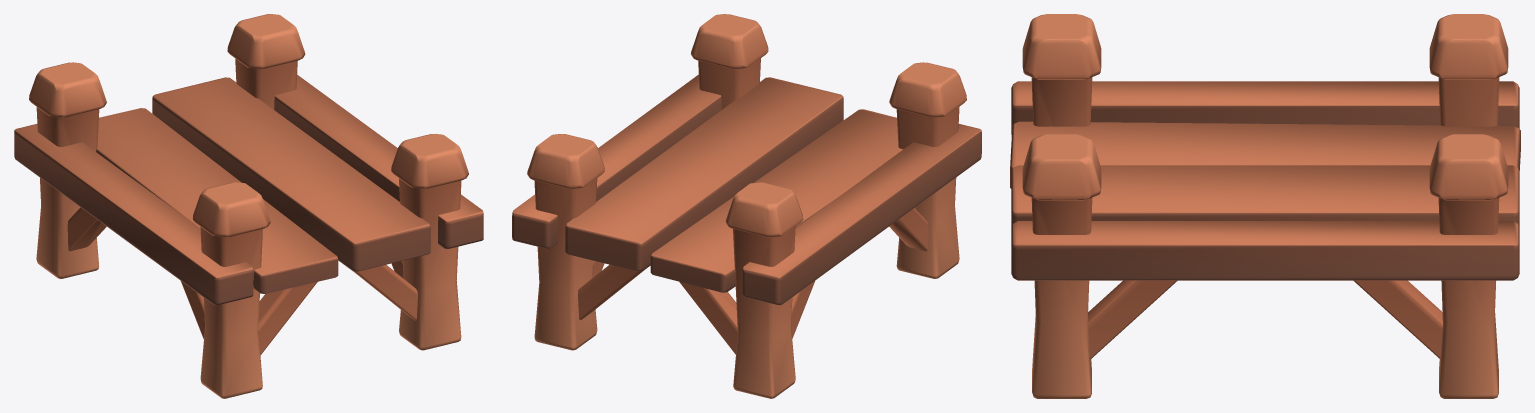
Rendered from structure-platform-dock-small.glb.
3 renders of one model, left to right at view 1: azimuth 30°, elevation 25°; view 2: azimuth 150°, elevation 25°; view 3: azimuth 270°, elevation 25°, orthographic. The views are drawn at different scales.
Visible parts, largest first — view 1: structure-platform-dock-small; view 2: structure-platform-dock-small; view 3: structure-platform-dock-small.
Boxes of the visible parts, x1,y1,x2,y2 form: structure-platform-dock-small: [14, 14, 483, 398]; structure-platform-dock-small: [512, 14, 981, 398]; structure-platform-dock-small: [1010, 14, 1520, 398].
Bounding box in the file's own units: 1.9 × 1.31 × 2.51.
Materials: 1 (1 with a texture image).
